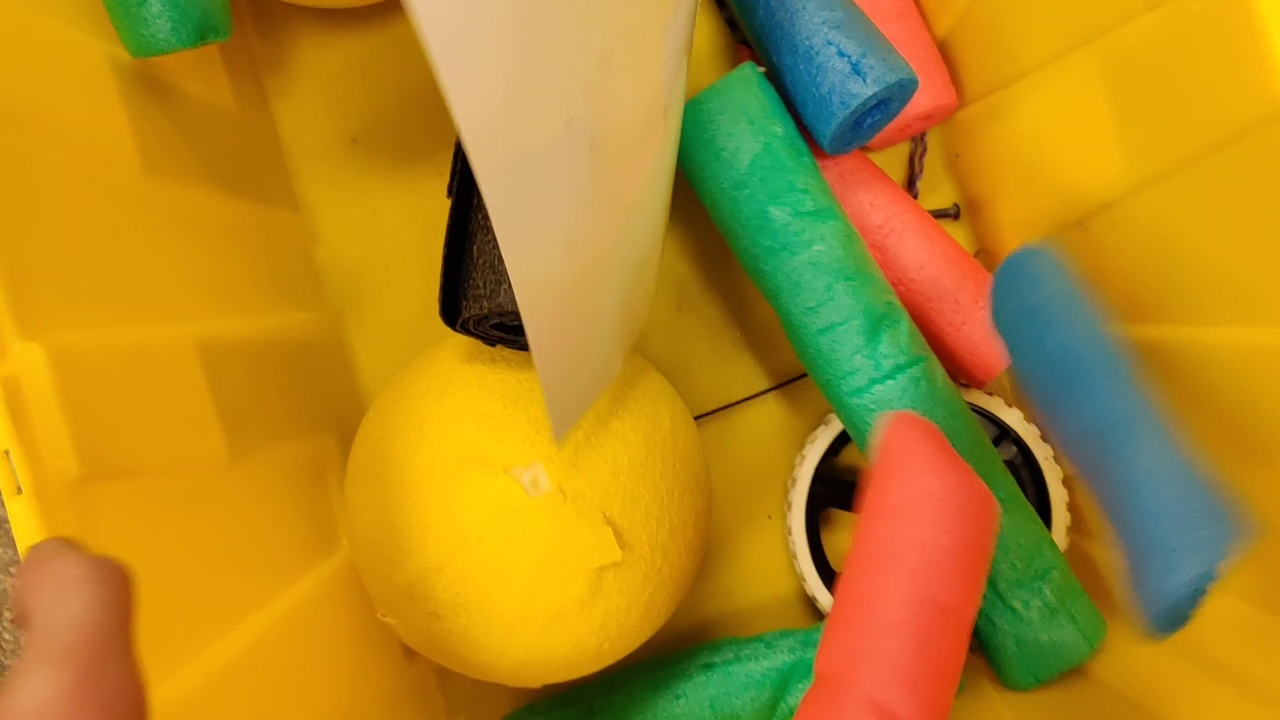Ball: (348, 326, 712, 695)
